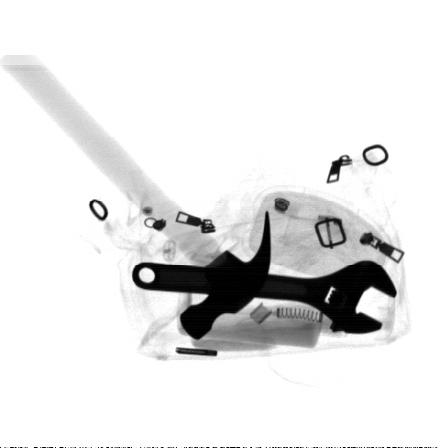Hammer: (0, 39, 272, 341)
Wrench: (130, 259, 398, 331)
